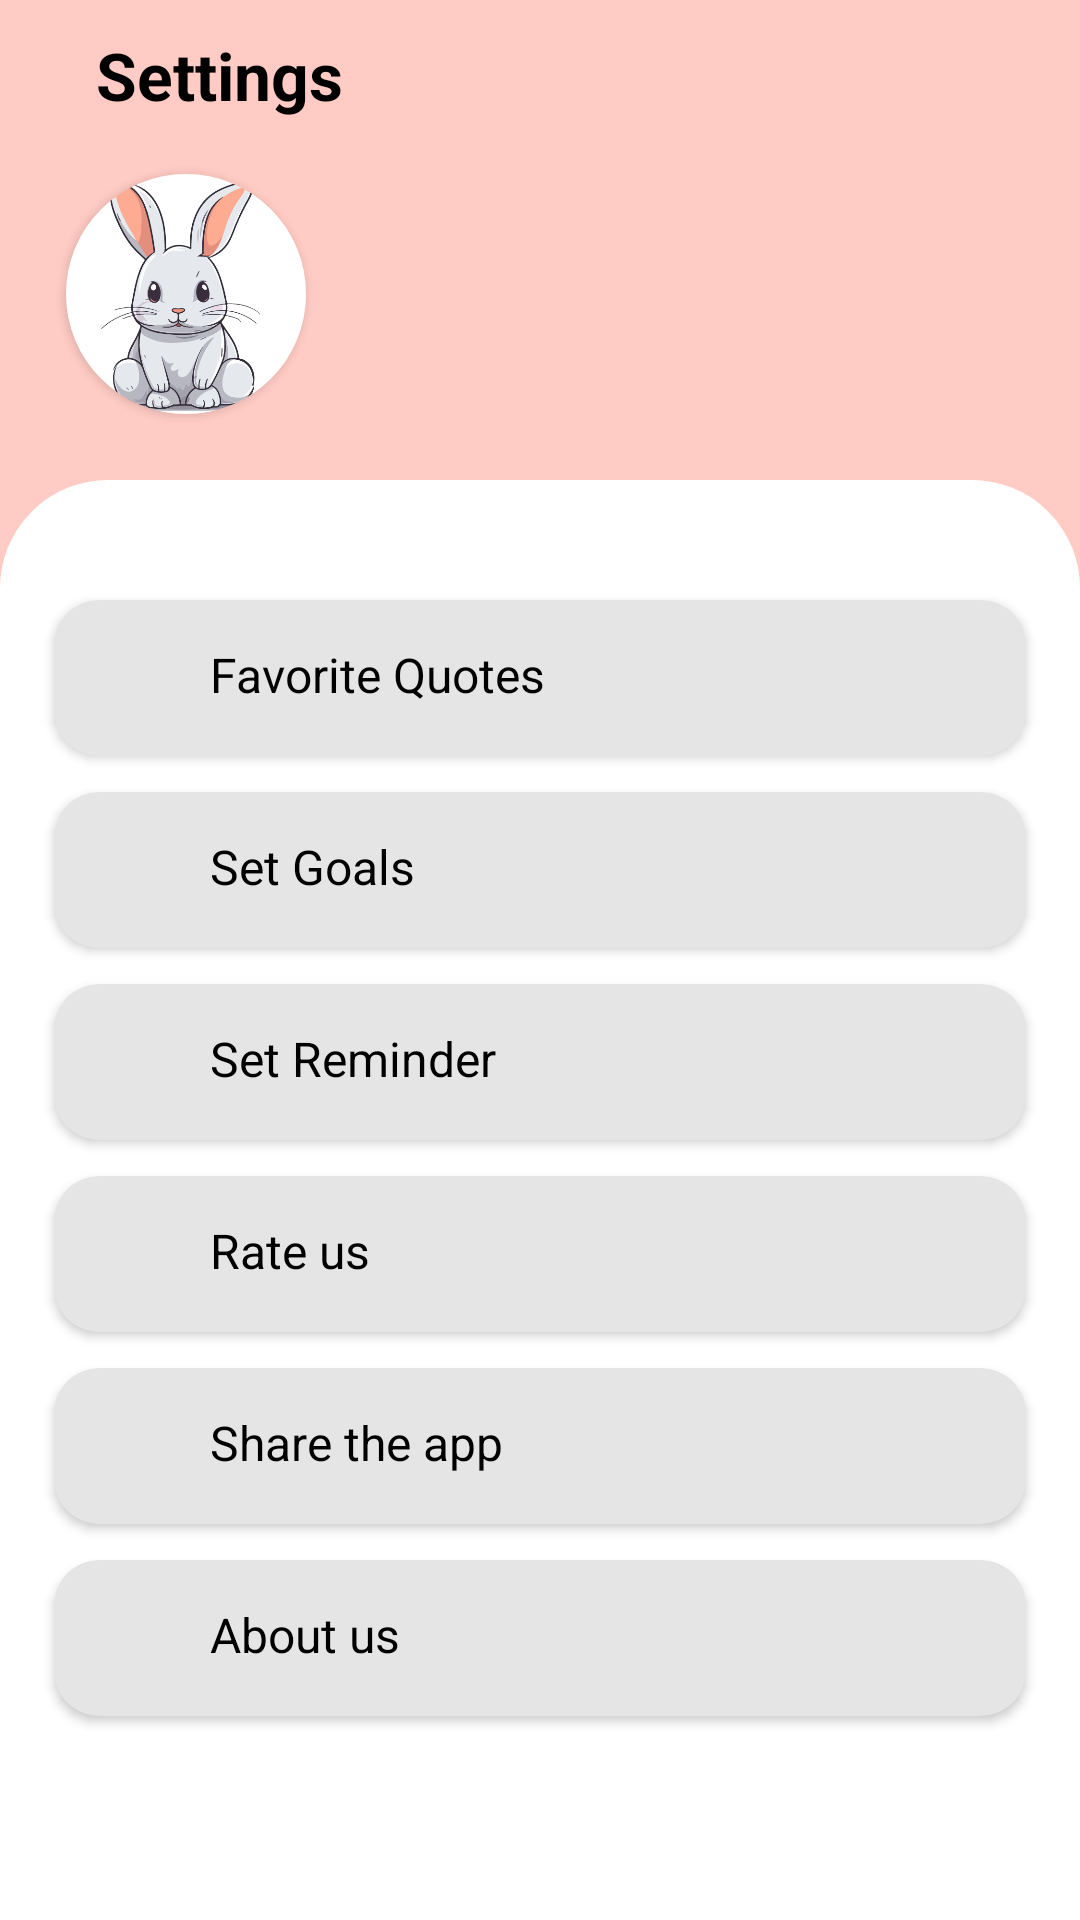

Screen size 1080px×1920px. Icon name, then its box in pixels as (x1, y1, x2, y2):
bunny: (66, 174, 306, 414)
